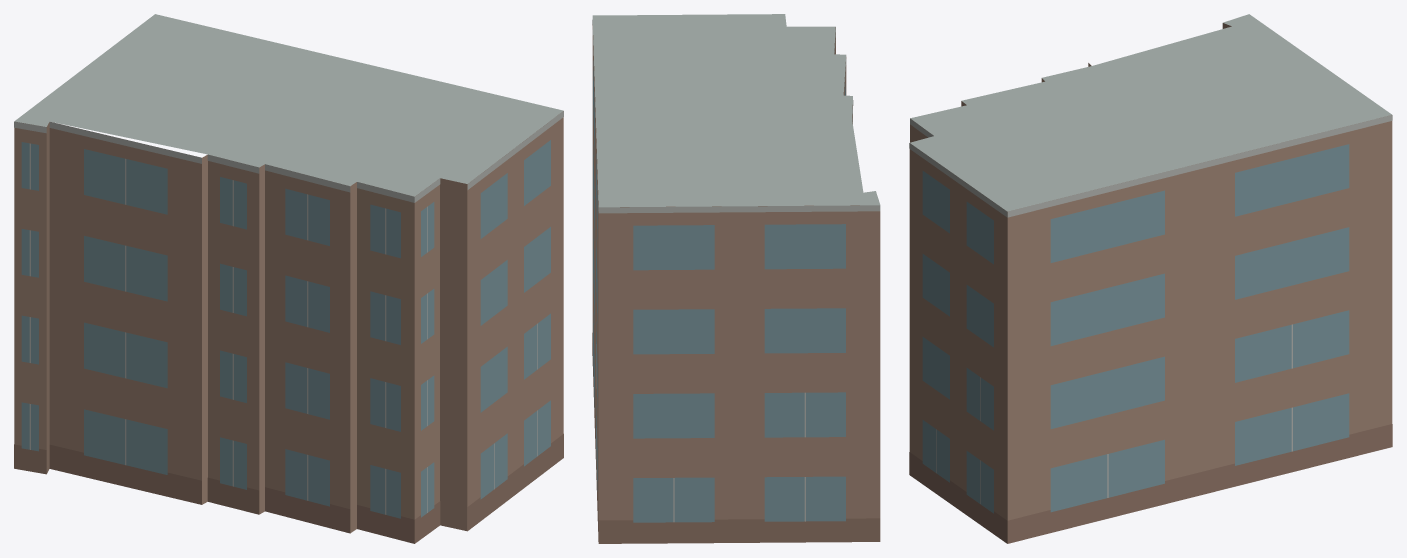
Rendered from survey-upis-32628174.glb.
3 views of the same model, side by side, from view 1: azimuth 30°, elevation 25°; view 2: azimuth 150°, elevation 25°; view 3: azimuth 270°, elevation 25° (orthographic). The views are drawn at different scales.
Parts seen in each view (by area): view 1: survey-upis-32628174.tmp; view 2: survey-upis-32628174.tmp; view 3: survey-upis-32628174.tmp.
Part boxes in pixels (left/top/right/bottom): survey-upis-32628174.tmp: left=14, top=14, right=563, bottom=543; survey-upis-32628174.tmp: left=592, top=14, right=880, bottom=543; survey-upis-32628174.tmp: left=909, top=14, right=1392, bottom=543.
Bounding box in the file's own units: 17.23 × 13.5 × 17.79.
